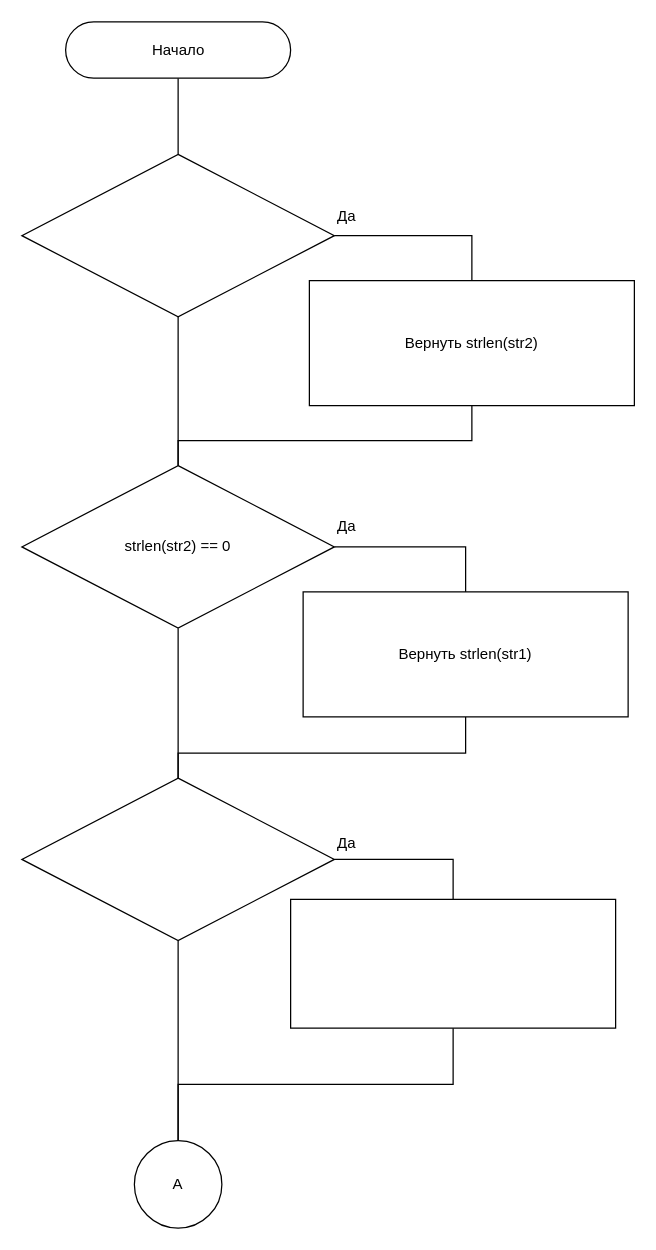
Image size: 656x1250. Some labels were removed from this diagram. The centre of each missing label's shape, as x and y in pixels:
"matrix[strlen(str1) - 1] [strlen(str2) - 1] != INT_MAX" goes at (177,859).
"strlen(str1) == 0" goes at (177,235).
"Вернуть matrix[strlen(str1) - 1][strlen(str2) - 1]" goes at (452,963).
